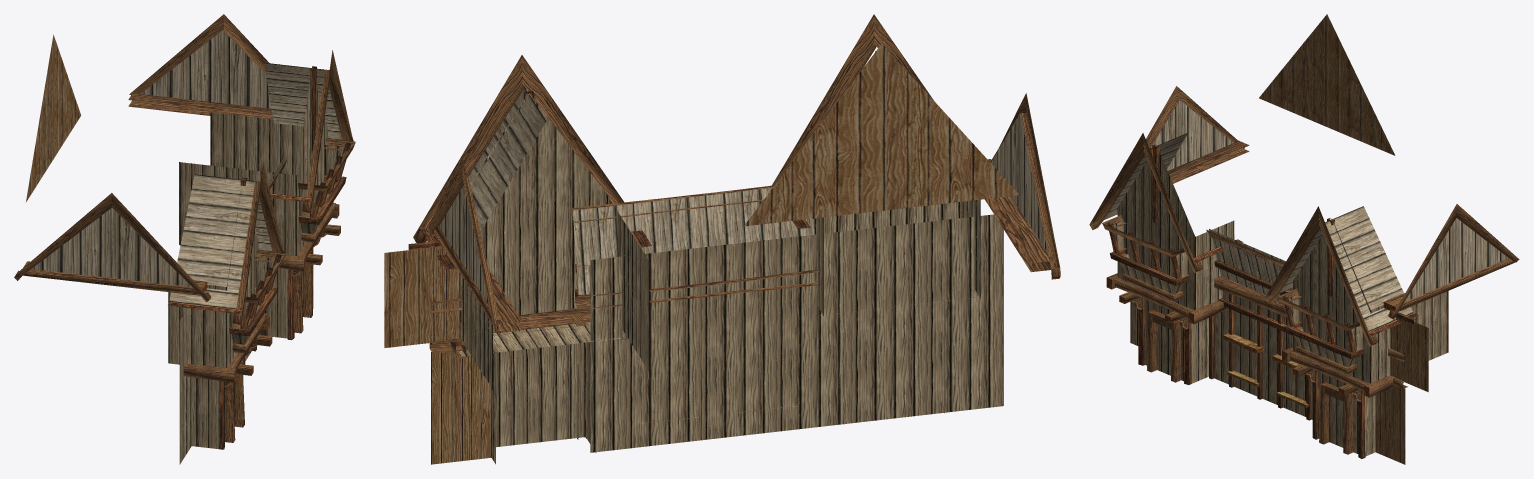
Rendered from LAKETOWN_EXTERIOR_PS_LT_BAKERHOUSE746__GX.fbx.
3 views of the same model, side by side, from view 1: azimuth 30°, elevation 25°; view 2: azimuth 150°, elevation 25°; view 3: azimuth 270°, elevation 25° (orthographic). The views are drawn at different scales.
Visible parts, largest first — view 1: LAKETOWN_EXTERIOR_PS_LT_BAKERHOUSE746__GX; view 2: LAKETOWN_EXTERIOR_PS_LT_BAKERHOUSE746__GX; view 3: LAKETOWN_EXTERIOR_PS_LT_BAKERHOUSE746__GX.
Boxes of the visible parts, x1,y1,x2,y2 form: LAKETOWN_EXTERIOR_PS_LT_BAKERHOUSE746__GX: (14, 14, 355, 464); LAKETOWN_EXTERIOR_PS_LT_BAKERHOUSE746__GX: (384, 14, 1060, 464); LAKETOWN_EXTERIOR_PS_LT_BAKERHOUSE746__GX: (1089, 14, 1519, 464).
Bounding box in the file's own units: 176481 × 145758 × 176382.
10 materials, 10 textured.
